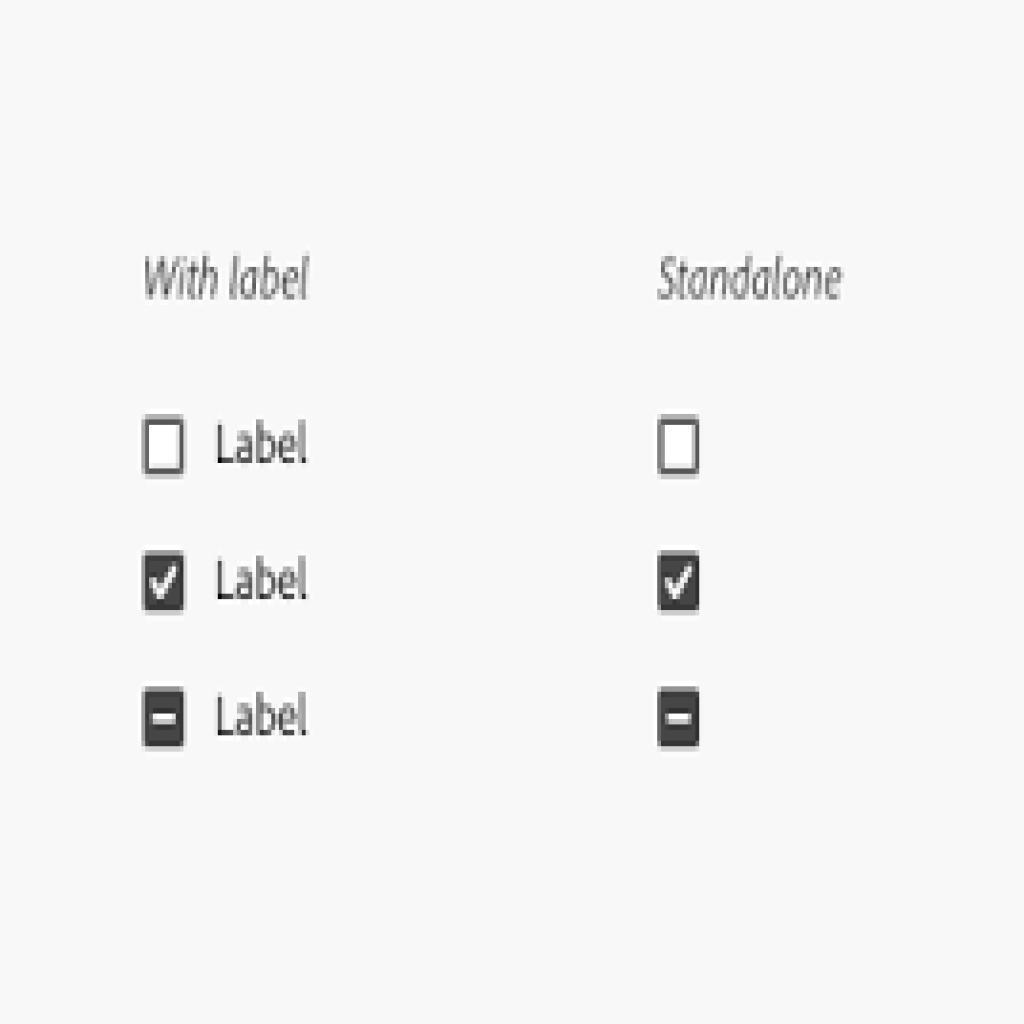checkbox: (142, 688, 186, 750), (144, 552, 186, 615), (659, 554, 703, 611), (657, 693, 699, 750), (142, 418, 184, 473), (660, 416, 698, 476)
label: (657, 252, 850, 308), (147, 253, 323, 311), (204, 415, 322, 475), (213, 544, 313, 613), (217, 690, 319, 749)
